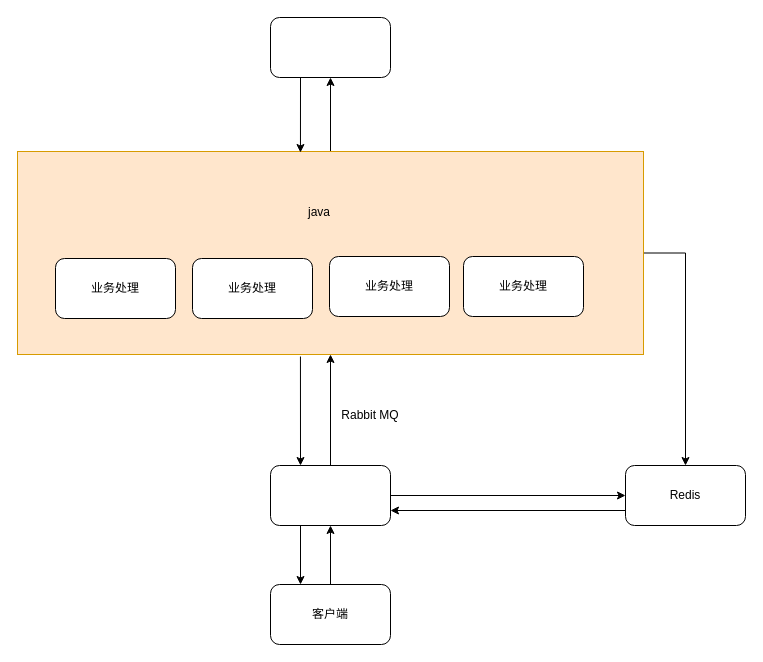
Some shapes in this 763 by 662 pixel diagram are drawn without their labels. The shapes that lost their labels are listed below. From the top down, each one's centre as x and y in pixels, then its label:
At pixel 330 47: "Mysql".
At pixel 330 495: "c++".
